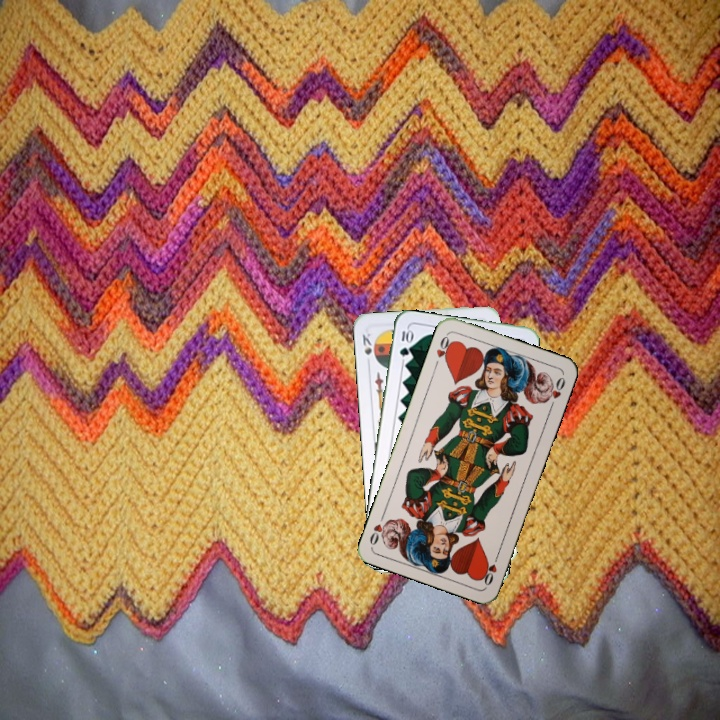G10: (396, 325, 414, 359)
HO: (431, 331, 456, 370), (478, 549, 502, 588)
SK: (358, 329, 374, 368)
